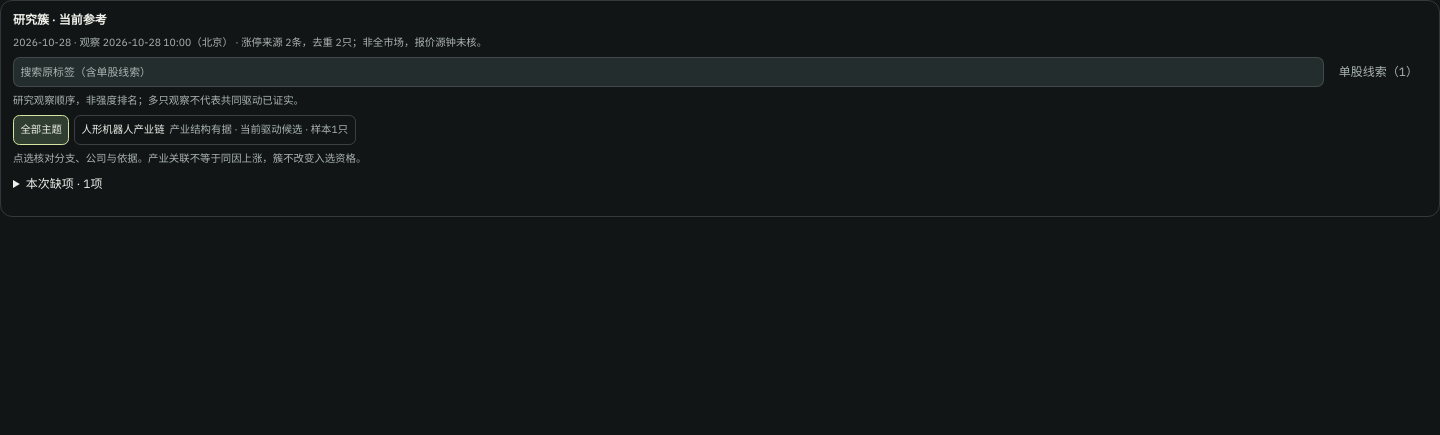
Scenario: keeps sheep narrative and all original tags, no invented code or combined board return
The width and height of the screenshot is (1440, 435).
Click the button "单股线索（1）".
click(1378, 72)  # box [1330,57,1427,87]
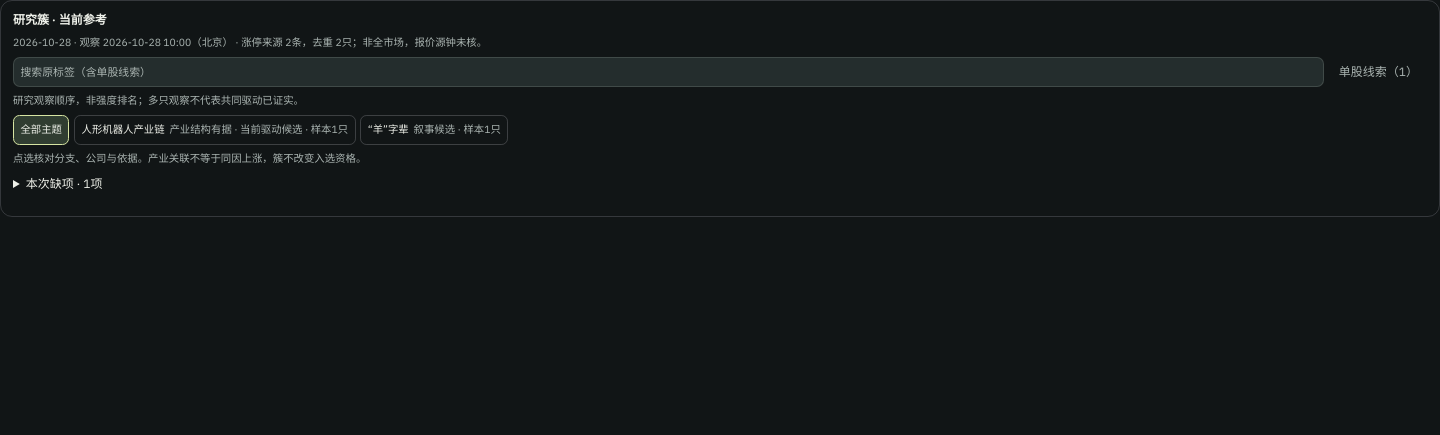
Click the button "“羊”字辈".
click(434, 130)  # box [360,115,508,145]
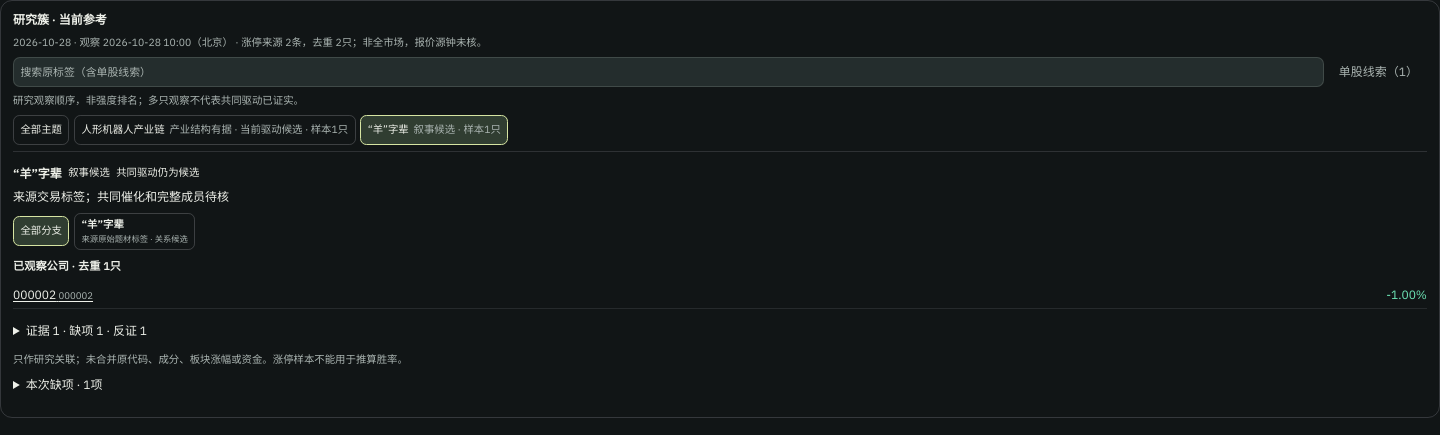
Check: the text "来源原始题材标签 · 关系候选" is shown, box [82,233,188,245]
Check: the text "叙事候选" is shown, box [68,165,110,183]
Check: the link "000002 000002" is shown, box [13,286,93,304]
